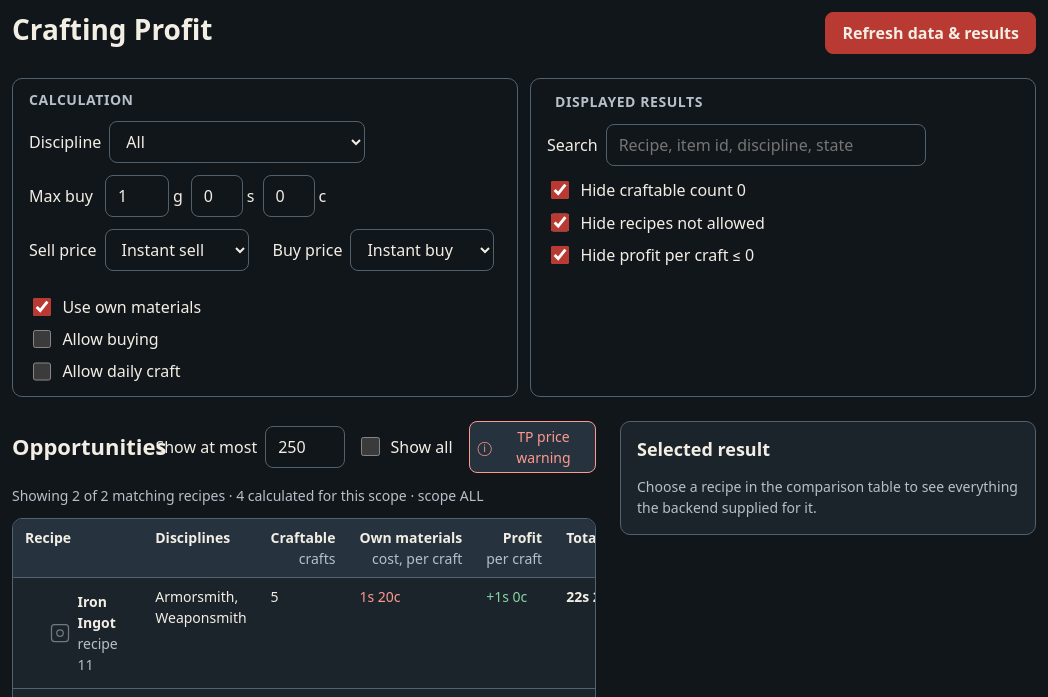
Test: CraftingProfitScreen › reportsDisplayedAgainstMatchingAndCalculatedCounts
Expected: the element with test id "summary" shows "Showing 2 of 2 matching recipes · 4 calculated", [12, 486, 410, 505]
Replace the text in the number field with test id "max-displayed" with "1" at {"x": 305, "y": 447}, box [265, 426, 345, 468]
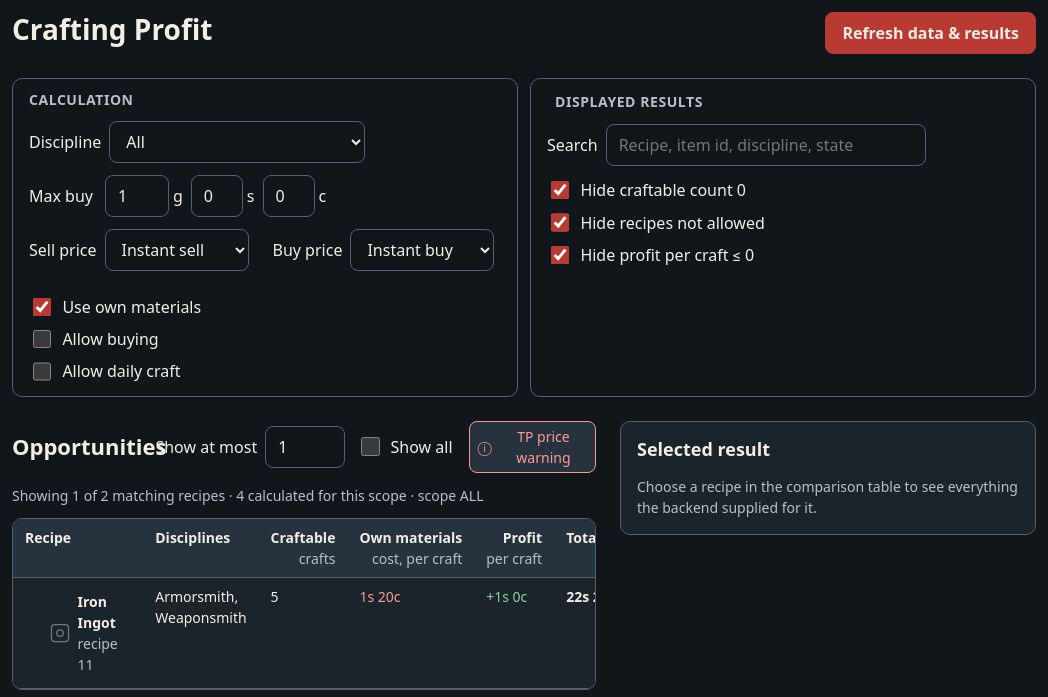
Result: the element with test id "summary" shows "Showing 1 of 2 matching recipes · 4 calculated" at [12, 486, 410, 505]
